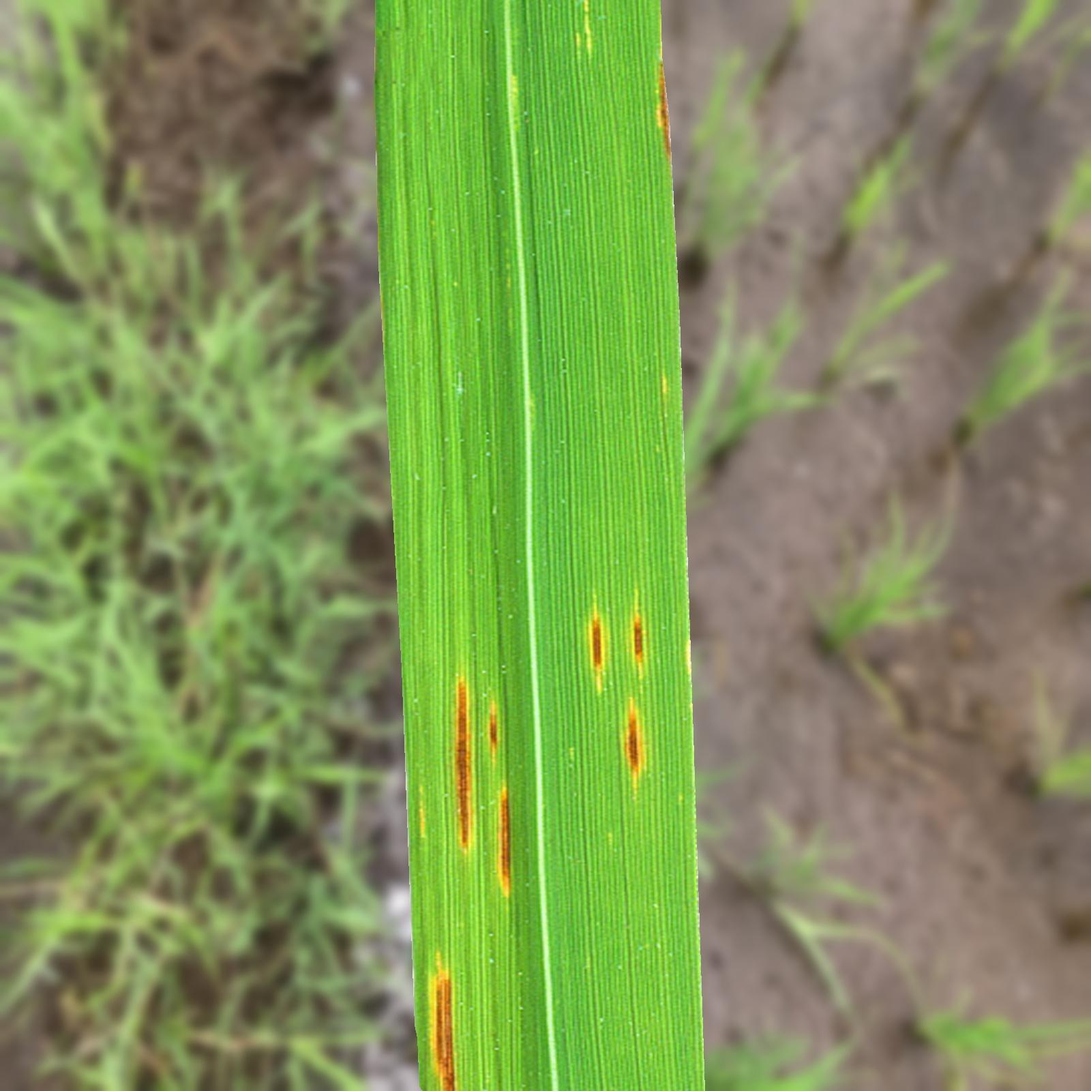LEAF: (374, 0, 704, 1090)
NBS: (457, 682, 470, 847), (444, 979, 455, 1090), (660, 68, 672, 159), (501, 797, 509, 884), (437, 985, 444, 1072), (592, 614, 602, 671), (630, 710, 638, 772), (635, 621, 642, 655), (491, 715, 498, 746)
